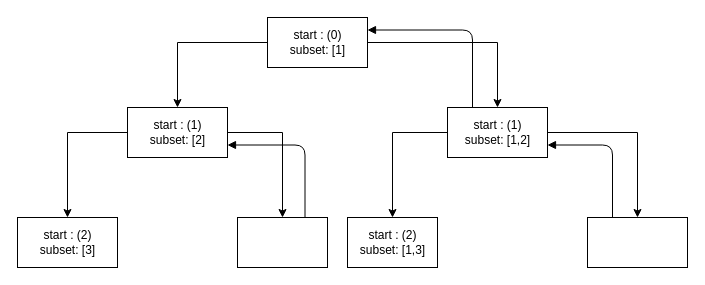
Some shapes in this 705 by 285 pixel diagram are drawn without their labels. Each missing label, with the centre of its shape:
start : (2) subset: [1,2,3]: (x=637, y=242)
start : (2) subset: [2,3]: (x=282, y=242)
